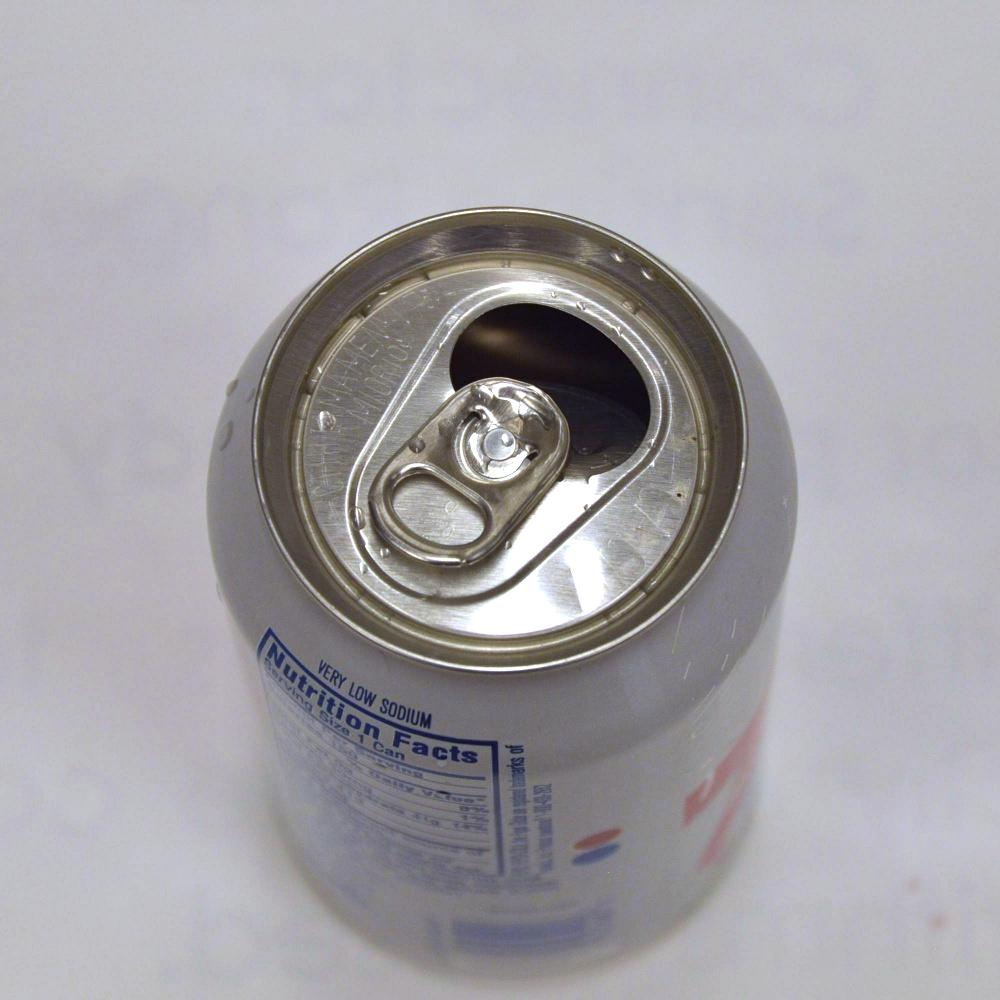Metal: (183, 168, 808, 967)
